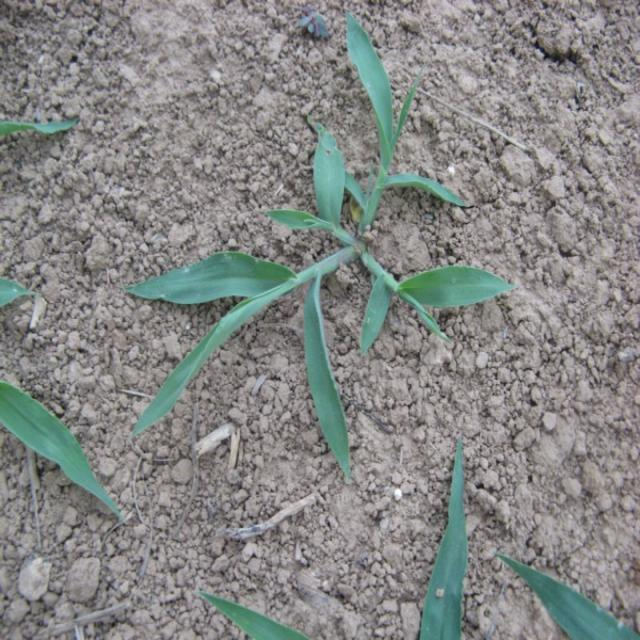bg: (126, 6, 515, 488)
